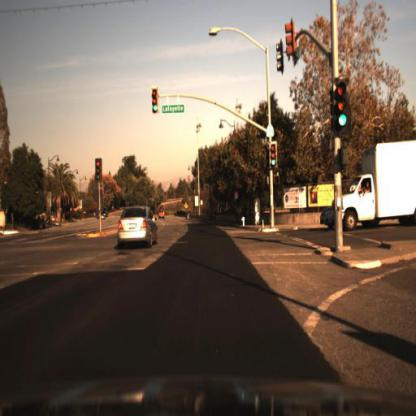car: (333, 138, 416, 231), (117, 202, 160, 257), (319, 202, 341, 232)
trafficLight-Green: (269, 141, 278, 172), (152, 86, 160, 117)
trafficLight-RedLeft: (94, 157, 103, 184)
truck: (336, 141, 416, 231)
